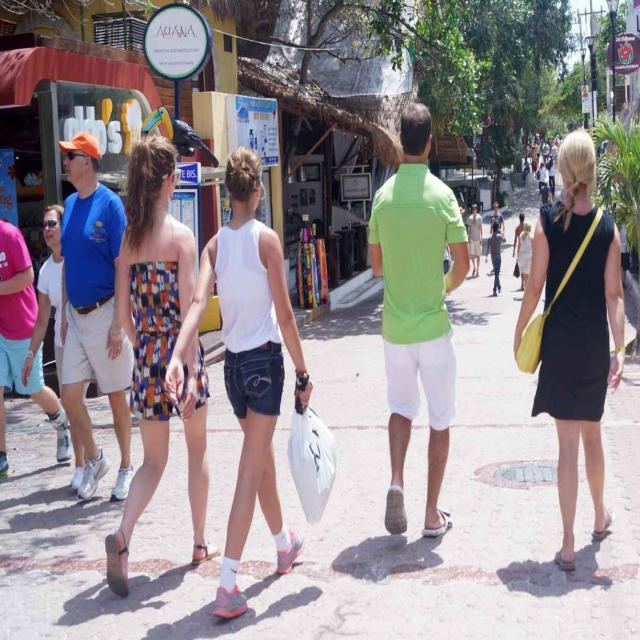body: (161, 144, 337, 622), (102, 133, 224, 596), (511, 126, 627, 574), (365, 100, 474, 541), (56, 130, 140, 507), (21, 203, 92, 493), (21, 202, 74, 449), (484, 222, 507, 298), (520, 130, 563, 162), (466, 202, 483, 278), (516, 222, 534, 292), (618, 210, 630, 286), (489, 199, 506, 238), (512, 212, 526, 259), (544, 153, 557, 196), (535, 161, 547, 196), (443, 235, 452, 275), (540, 177, 552, 205), (530, 145, 538, 181), (458, 202, 466, 220), (522, 156, 531, 171)
